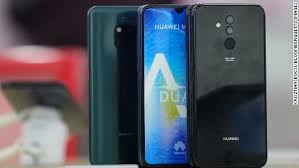huawei: (189, 1, 269, 168), (137, 3, 191, 168), (85, 3, 139, 167)
